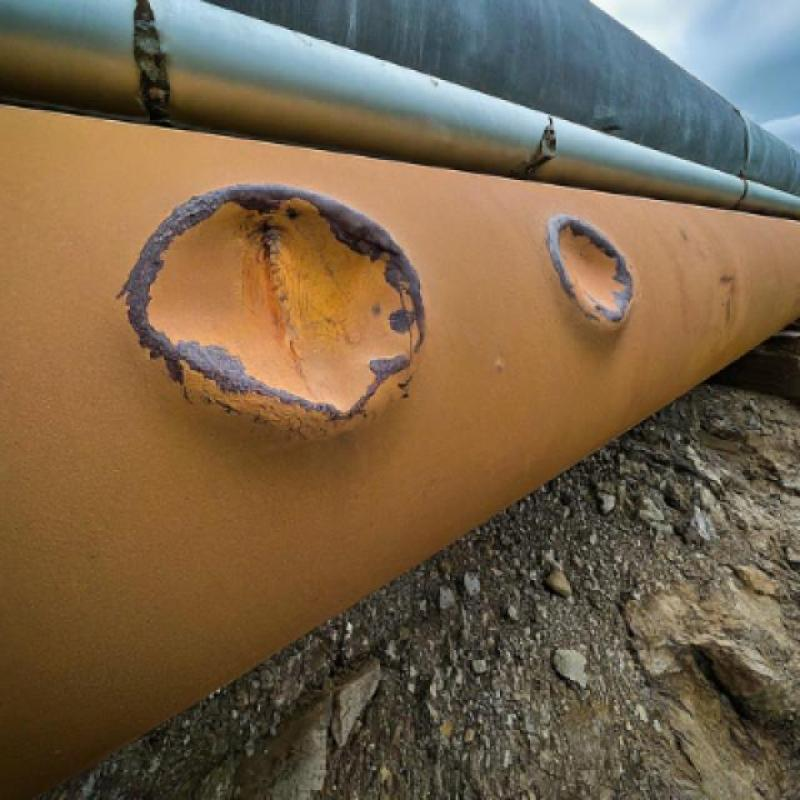Dent: (150, 175, 438, 435), (535, 210, 660, 340)
